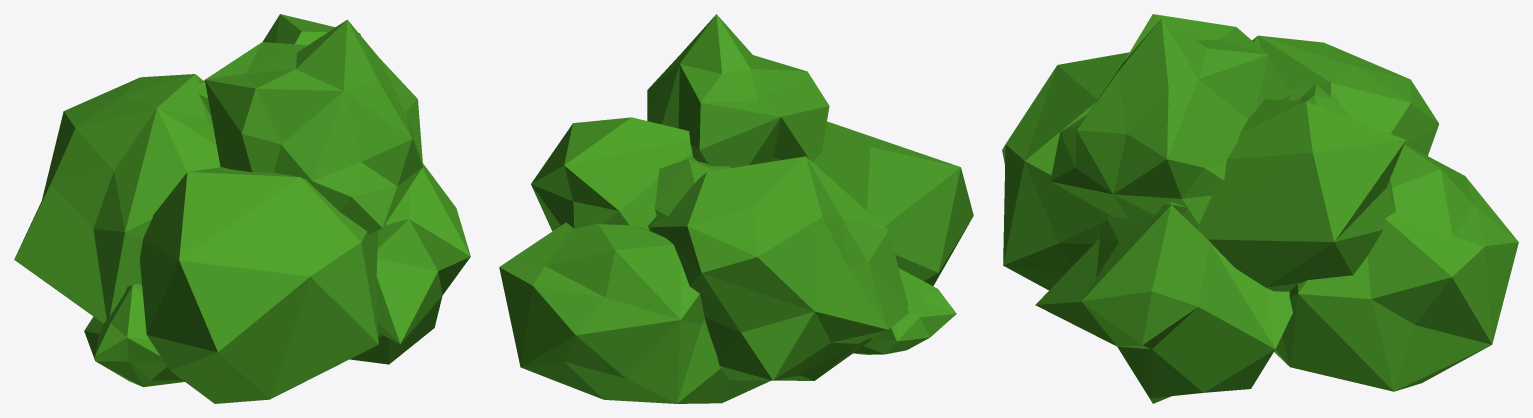
File: BushSmall_001.FBX
3 views of the same model, side by side, from view 1: azimuth 30°, elevation 25°; view 2: azimuth 150°, elevation 25°; view 3: azimuth 270°, elevation 25° (orthographic). The views are drawn at different scales.
Parts seen in each view (by area): view 1: Leaf032, Leaf031, Leaf037, Leaf034, Leaf038, Leaf039; view 2: Leaf037, Leaf035, Leaf031, Leaf032, Leaf039, Leaf038, Leaf040; view 3: Leaf035, Leaf031, Leaf034, Leaf039, Leaf032, Leaf037, Leaf040.
Part boxes in pixels (x1,y1,x2,y2): Leaf032: (139,167,378,403); Leaf031: (205,19,422,234); Leaf037: (14,74,220,323); Leaf034: (350,163,470,364); Leaf038: (84,283,184,387); Leaf039: (262,14,360,45); Leaf037: (648,156,908,380); Leaf035: (499,222,770,403); Leaf031: (647,14,829,167); Leaf032: (813,121,973,285); Leaf039: (531,117,692,231); Leaf038: (853,268,956,354); Leaf040: (655,157,730,221); Leaf035: (1274,144,1518,391); Leaf031: (1050,14,1290,227); Leaf034: (1035,202,1292,403); Leaf039: (1196,99,1405,291); Leaf032: (1002,52,1129,290); Leaf037: (1252,35,1438,155); Leaf040: (1289,84,1351,118).
Bounding box in the file's own units: 8.51 × 7.45 × 9.52.
